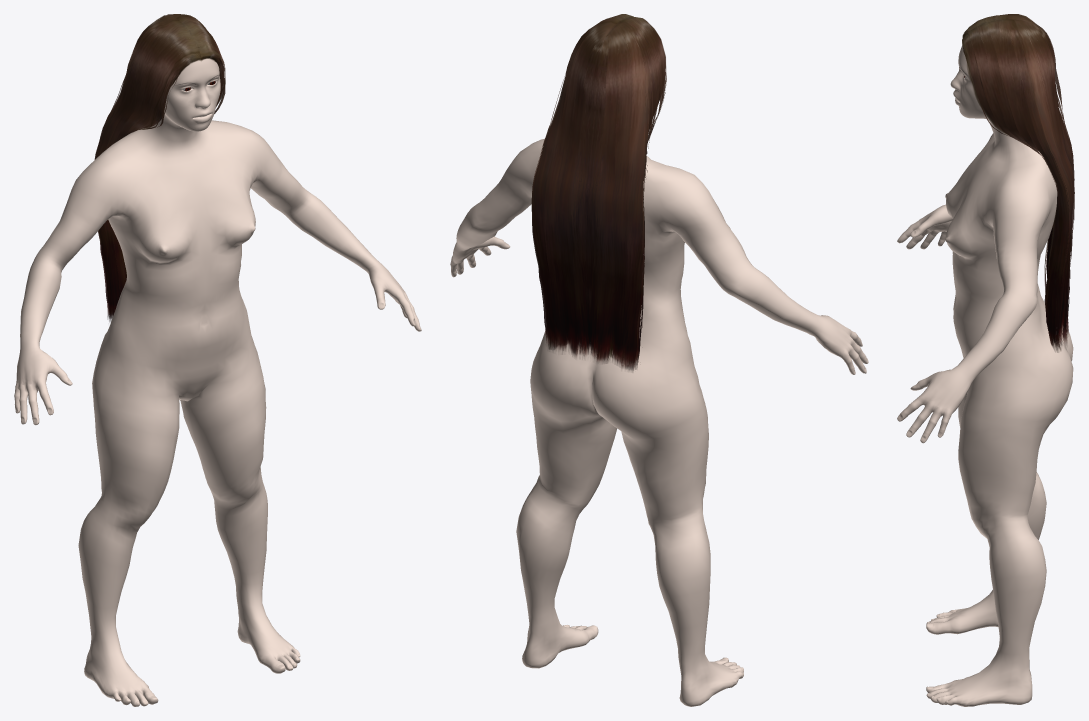
The model's file is cuerpo_completo.glb.
3 views of the same model, side by side, from view 1: azimuth 30°, elevation 25°; view 2: azimuth 150°, elevation 25°; view 3: azimuth 270°, elevation 25° (orthographic). The views are drawn at different scales.
Visible parts, largest first — view 1: cuerpo, cabello; view 2: cuerpo, cabello; view 3: cuerpo, cabello.
Boxes of the visible parts, x1,y1,x2,y2 form: cuerpo: [14, 58, 421, 706]; cabello: [94, 14, 225, 321]; cuerpo: [450, 138, 868, 706]; cabello: [531, 14, 666, 371]; cuerpo: [897, 45, 1073, 706]; cabello: [962, 14, 1074, 352].
Bounding box in the file's own units: 0.8043 × 1.24 × 0.3095.
4 materials, 3 textured.
